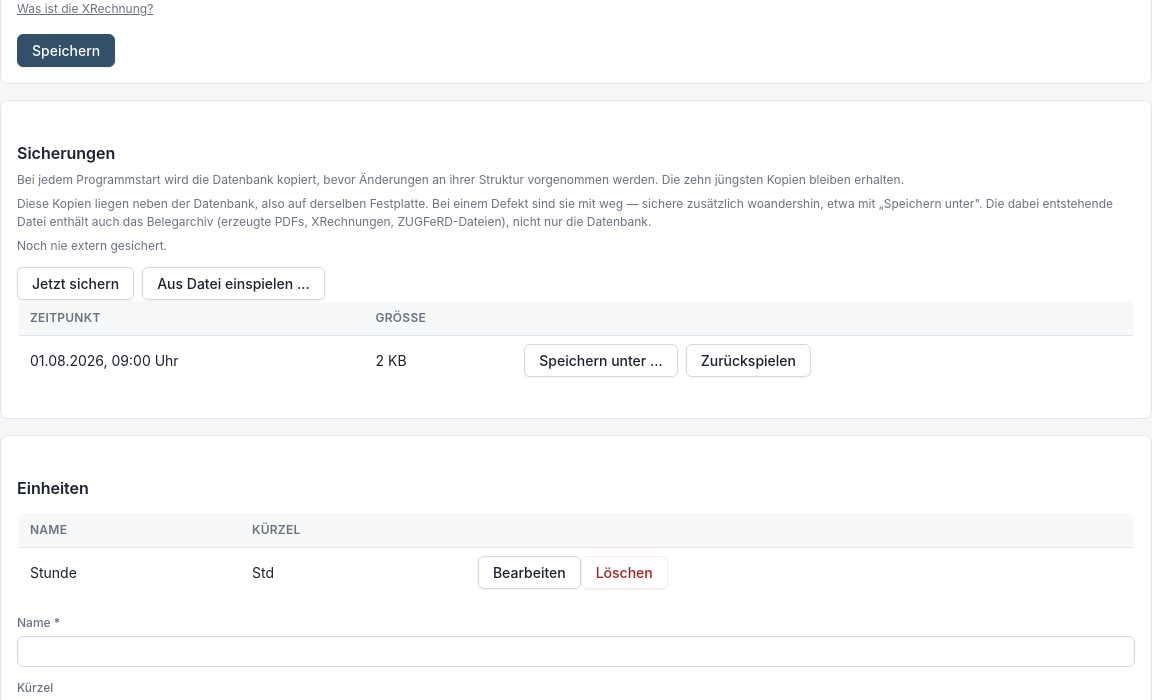
Test case: Einstellungen › spielt eine Sicherung erst nach Rückfrage zurück und verlangt einen Neustart
The image size is (1152, 700).
(page scrolled)
Check: the text "01.08.2026, 09:00 Uhr" is shown, box x1=18 y1=336 x2=364 y2=386
Click the button "Zurückspielen" at [748, 360], box x1=686 y1=344 x2=811 y2=377
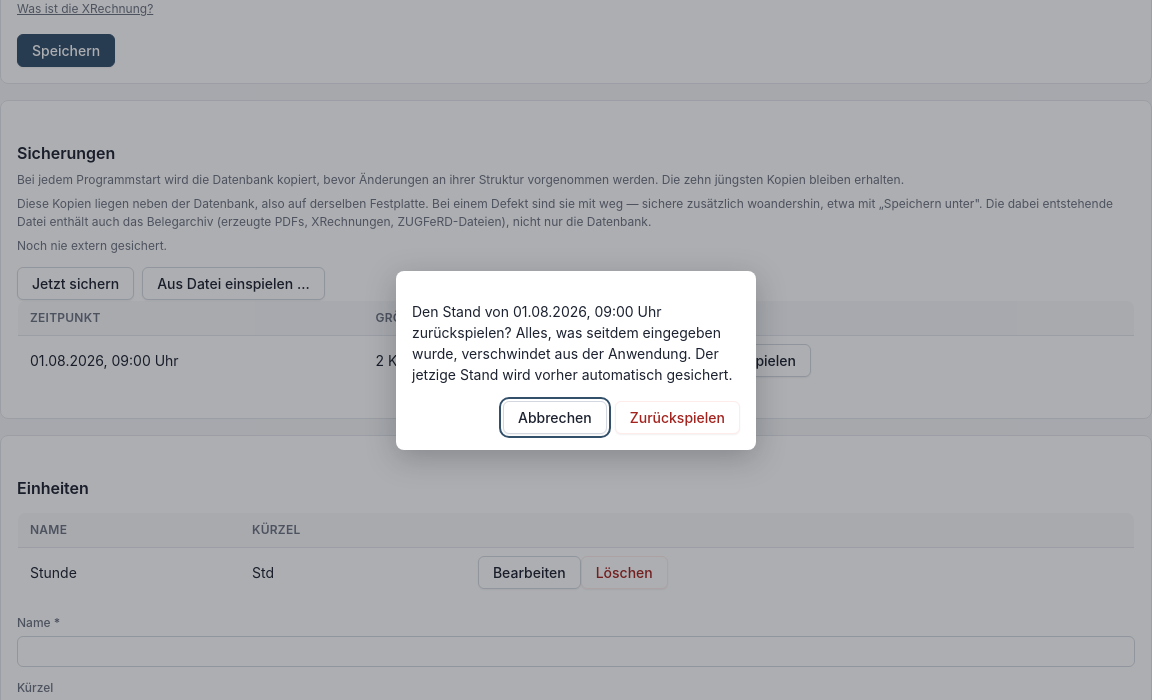
// Der Dialog trägt dieselbe Beschriftung wie der Knopf in der Zeile.
Click the button "Zurückspielen" at [677, 417], box x1=615 y1=400 x2=740 y2=434
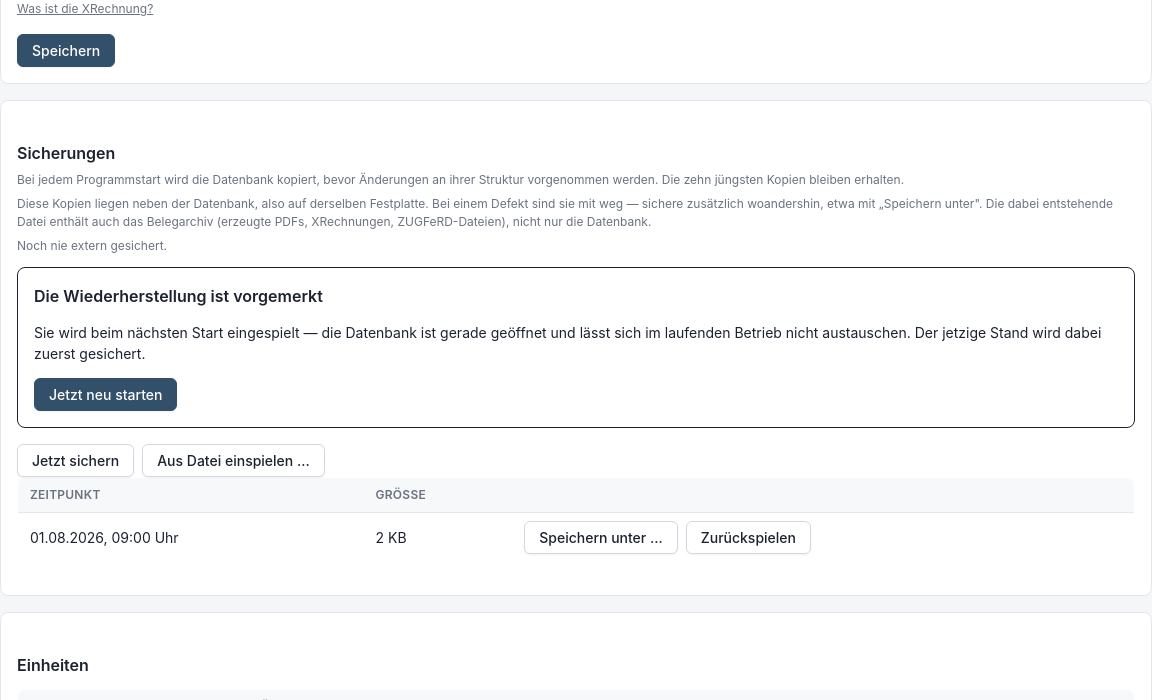
Check: the heading "Die Wiederherstellung ist vorgemerkt" is shown, box x1=34 y1=286 x2=323 y2=306
